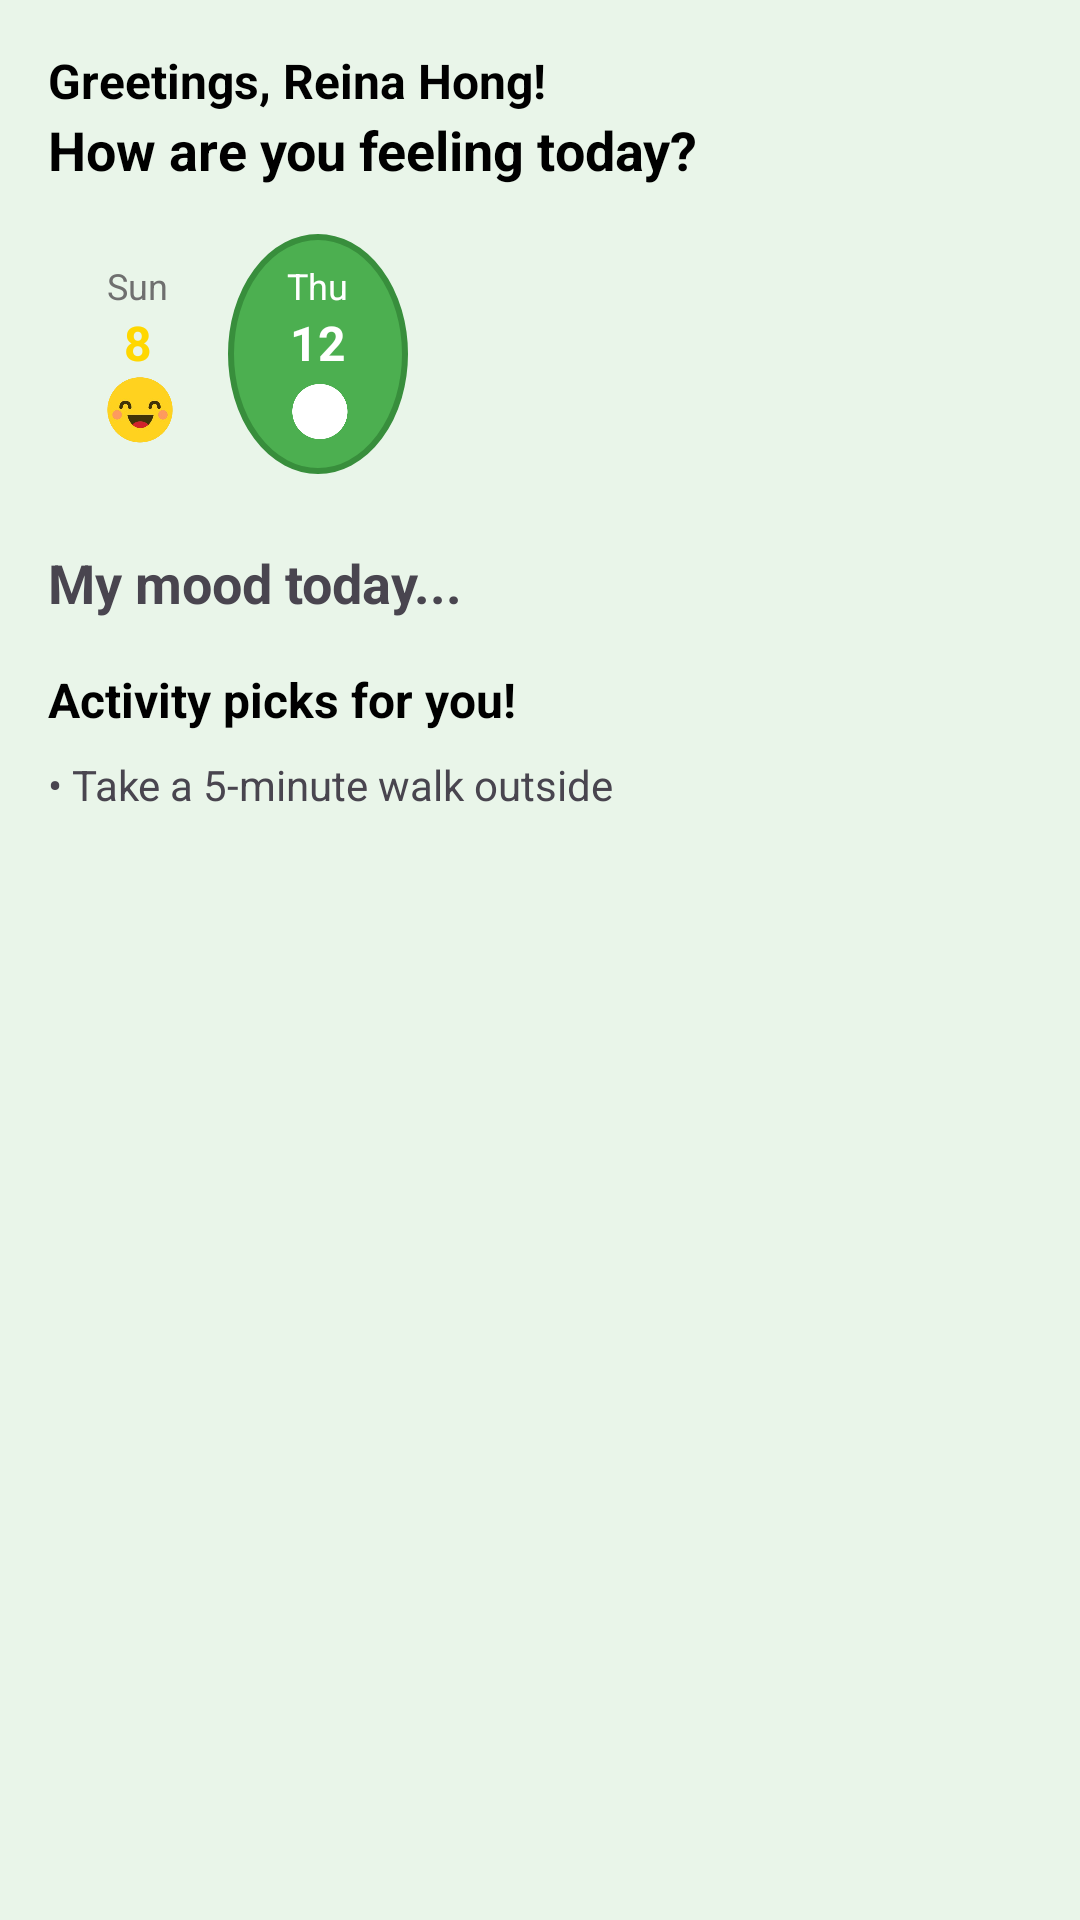

Named icons in this screenshot (1080 x 1920) and their centers, [x,y]:
happy face: [140,410]
